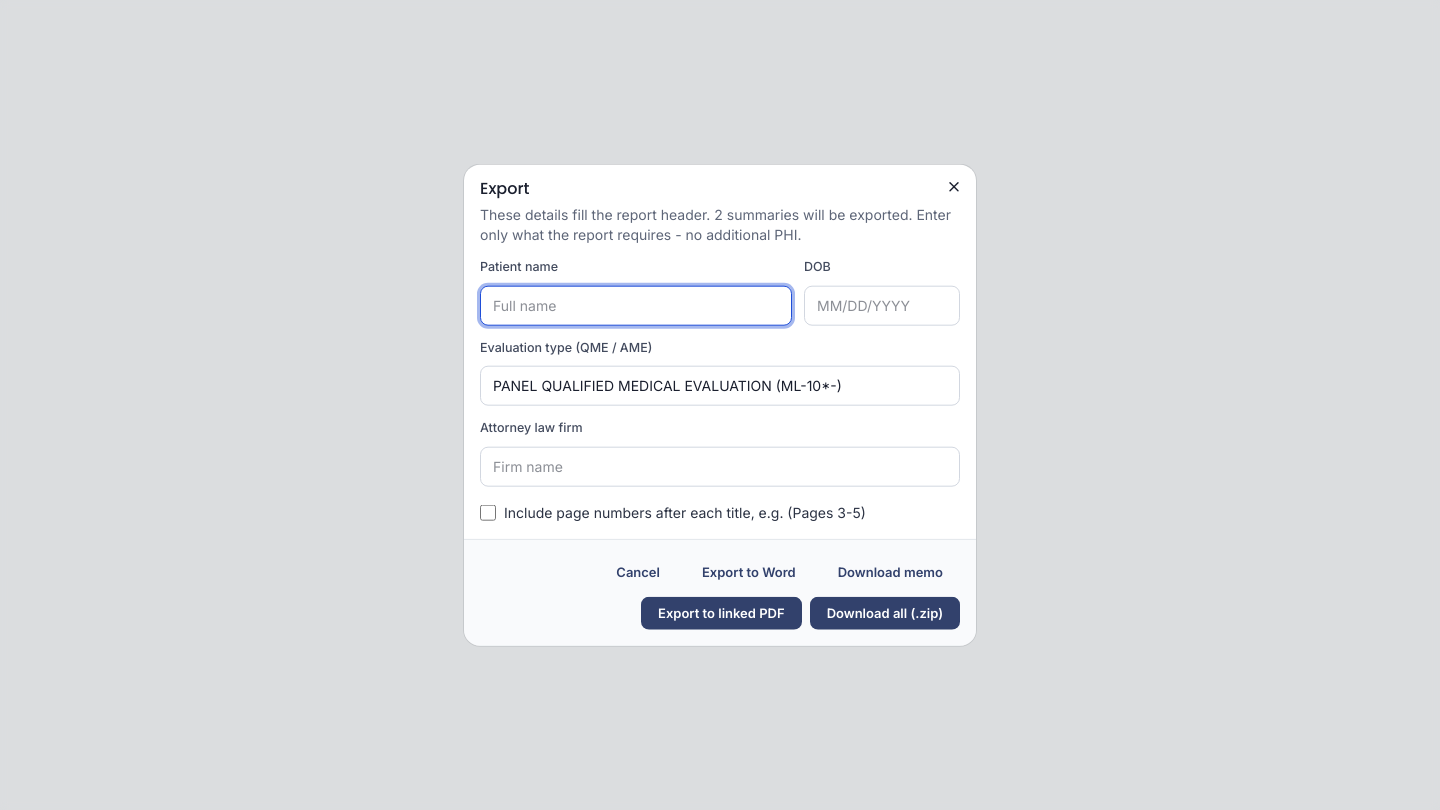
Scenario: ExportDialog error handling › names a transport failure, rather than showing a generic fallback
Click the button "Export to Word". click: (749, 572)
box: top-left (685, 555), bottom-right (813, 588)
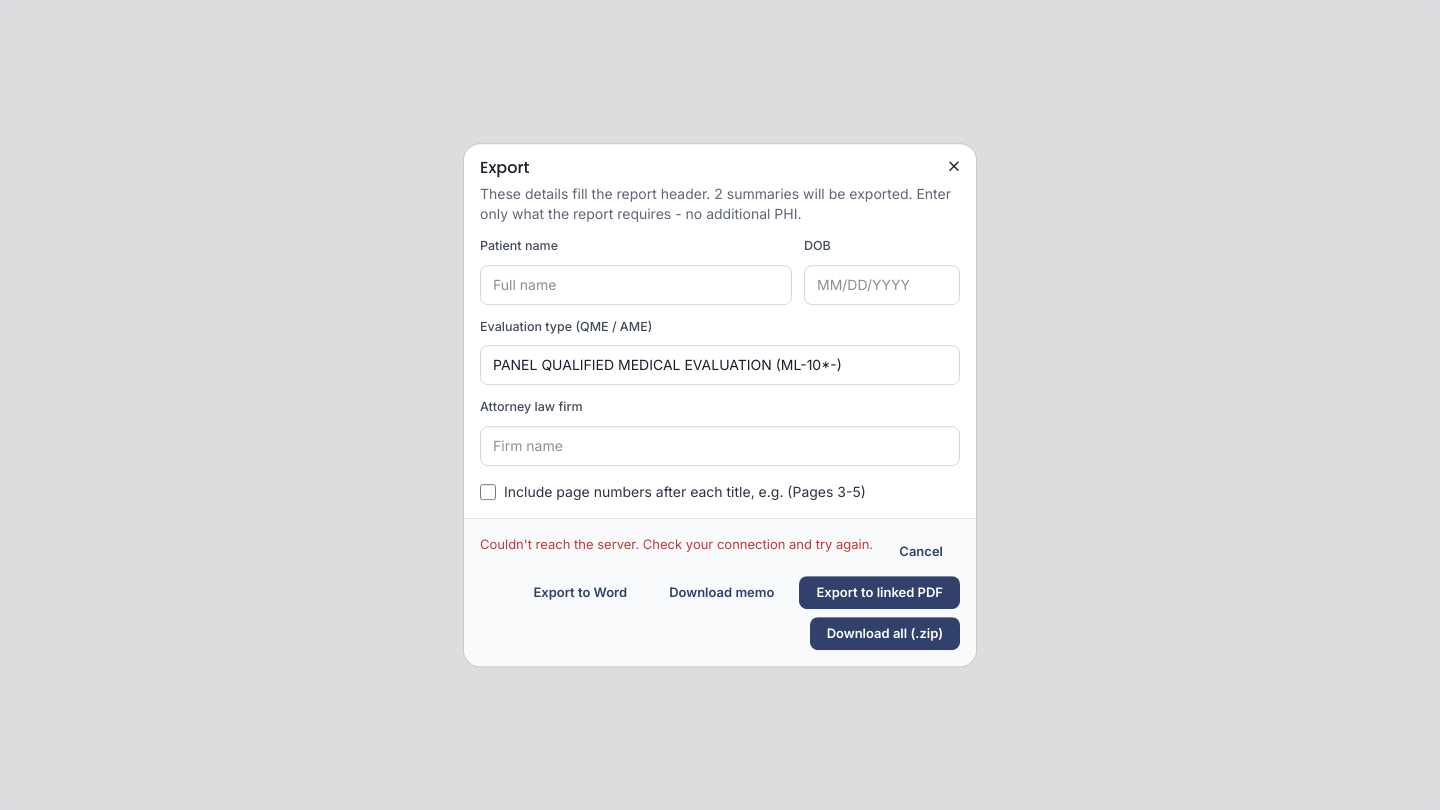
Check: the text "Couldn't reach the server" is shown, box top-left (480, 536), bottom-right (873, 552)
